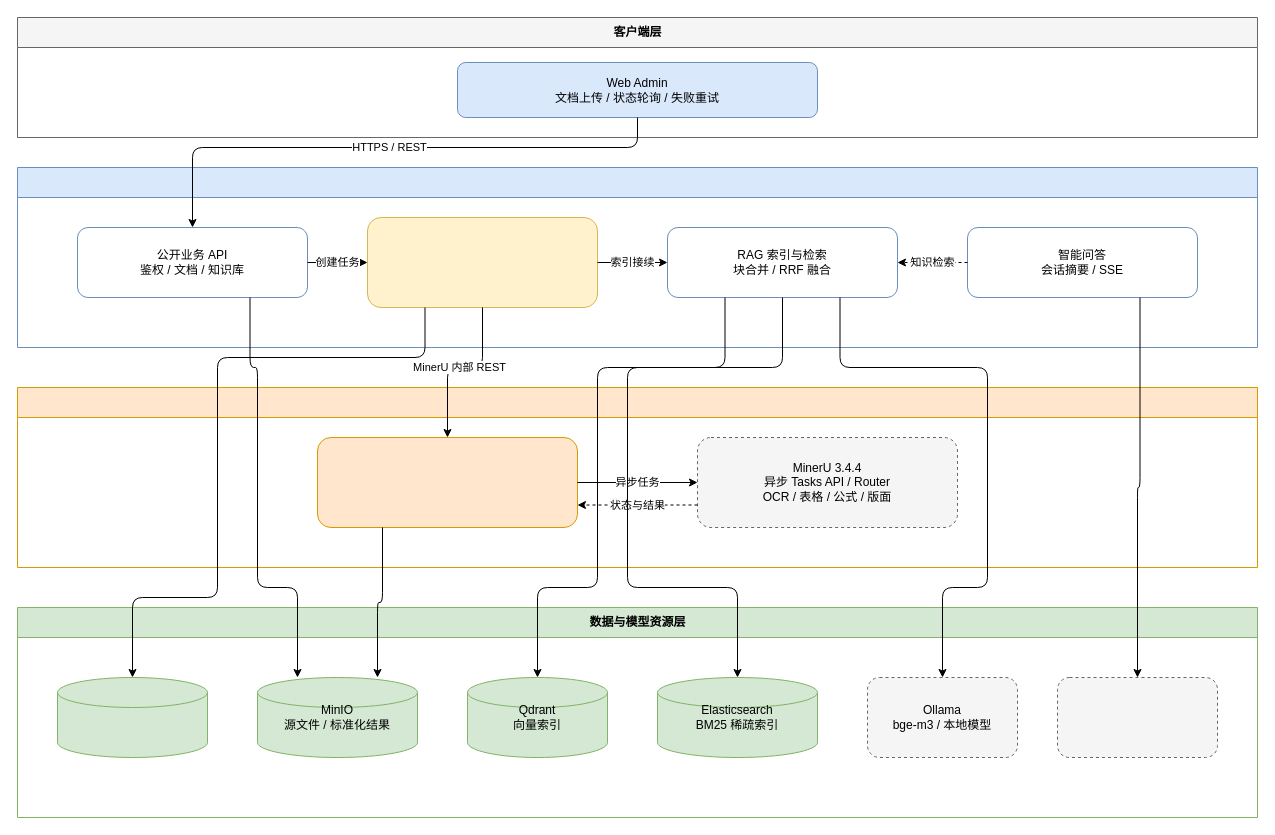
The diagram is 1275 pixels wide and 835 high, and some of its shapes have lost their labels. The box of each missing label's shape, as (x1, y1, x2, y2) in pixels:
LinkwiseHub ai-service 服务鉴权 / 状态映射 结果标准化 / MinIO 落盘: (316, 436, 578, 528)
MySQL 业务与任务真值: (56, 676, 208, 758)
Python AI 能力层: (16, 386, 1258, 568)
Spring Boot 业务服务层: (16, 166, 1258, 348)
外部 LLM DeepSeek / 百炼 / MiniMax: (1056, 676, 1218, 758)
解析任务编排 LEGACY 本地 / MINERU 远程 状态真值 / 重试 / 乐观锁: (366, 216, 598, 308)
